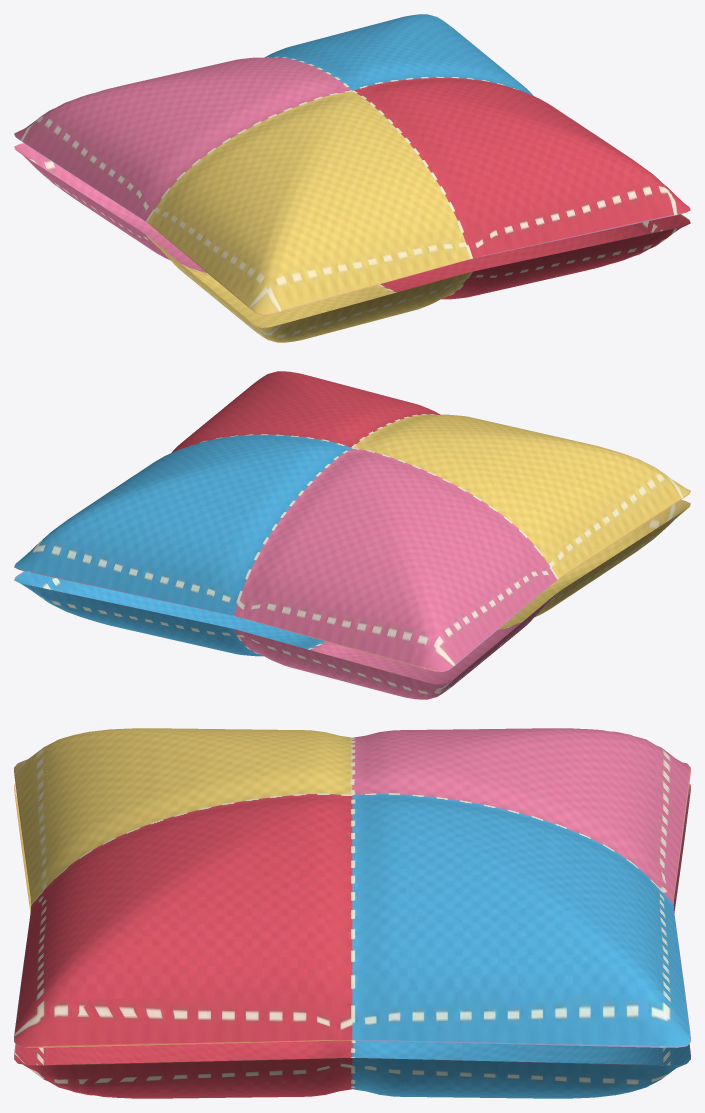
Rendered from cushion.glb.
3 renders of one model, top to bottom at view 1: azimuth 30°, elevation 25°; view 2: azimuth 150°, elevation 25°; view 3: azimuth 270°, elevation 25°, orthographic. The views are drawn at different scales.
Parts seen in each view (by area): view 1: PatchworkCushion; view 2: PatchworkCushion; view 3: PatchworkCushion.
Boxes of the visible parts, box(x1,y1,x2,y2) form: PatchworkCushion: box(14, 14, 690, 342); PatchworkCushion: box(14, 371, 690, 699); PatchworkCushion: box(14, 728, 690, 1098).
Size of the model in its own units: 1.06 by 0.4327 by 1.06.
Materials: 1 (1 with a texture image).
